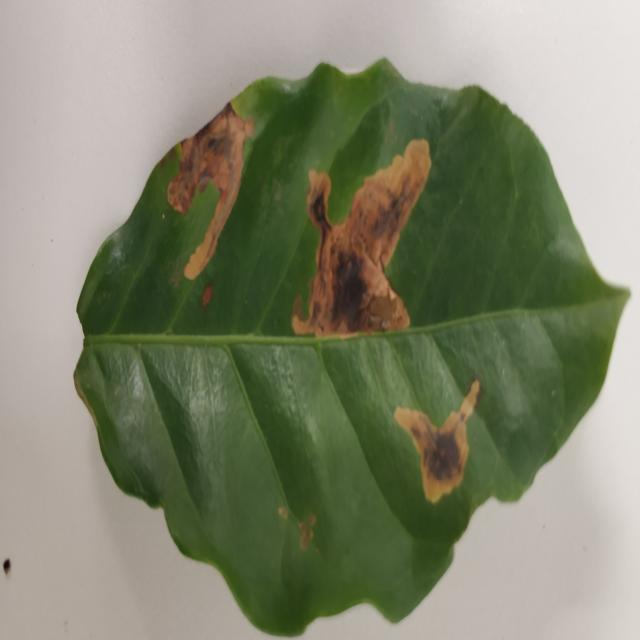Plaga-Minador: (72, 60, 630, 640)
